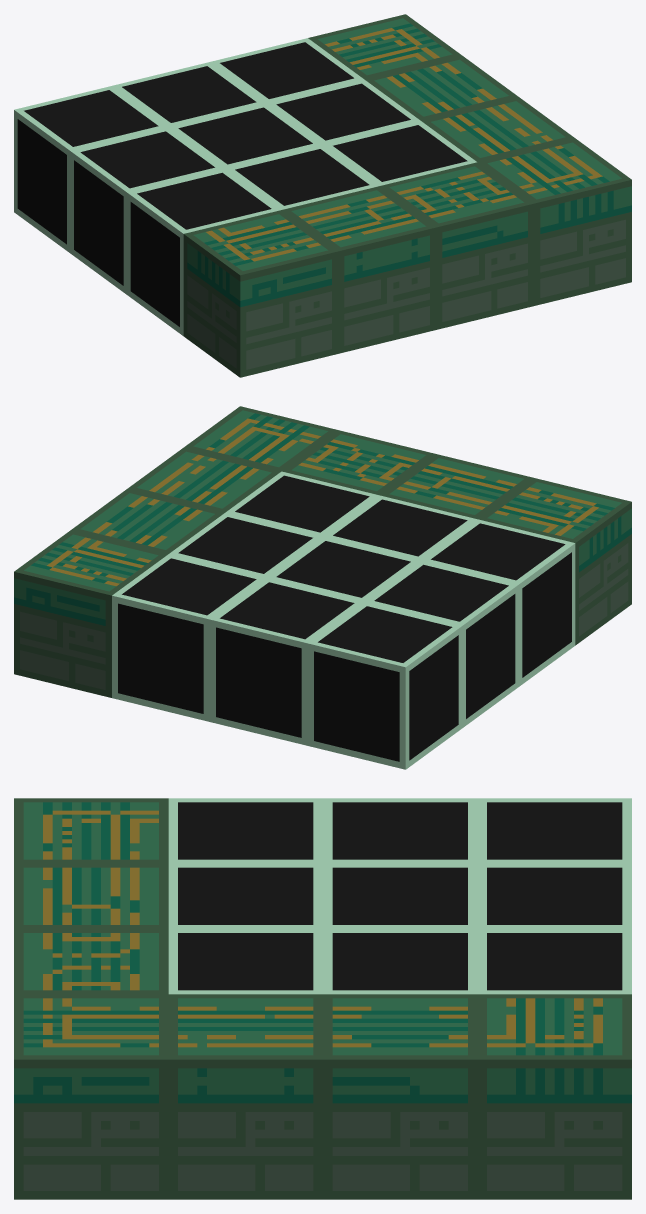
File: m_tiles_14_4x4.fbx
3 views of the same model, one above another, from view 1: azimuth 30°, elevation 25°; view 2: azimuth 150°, elevation 25°; view 3: azimuth 270°, elevation 25° (orthographic). The views are drawn at different scales.
Parts seen in each view (by area): view 1: m_tiles_14_4x4; view 2: m_tiles_14_4x4; view 3: m_tiles_14_4x4.
Boxes of the visible parts, box(x1,y1,x2,y2) form: m_tiles_14_4x4: box(14, 14, 631, 377); m_tiles_14_4x4: box(14, 406, 631, 769); m_tiles_14_4x4: box(14, 798, 631, 1199).
Size of the model in its own units: 6.4 by 1.6 by 6.4.
Materials: 1 (1 with a texture image).
